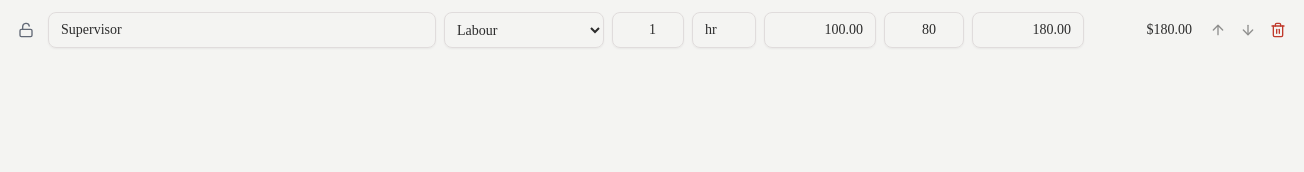
Test case: typing a markup still sets the sell from the cost
Replace the text in the number field named "Markup %" with "25" at (924, 30), box [884, 12, 964, 48]
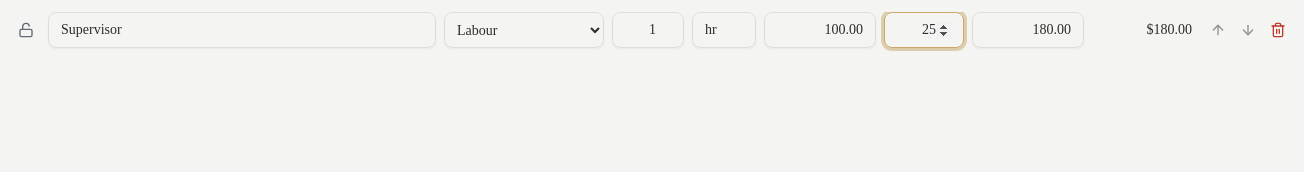
Click the field named "description" at (242, 30), box [48, 12, 436, 48]
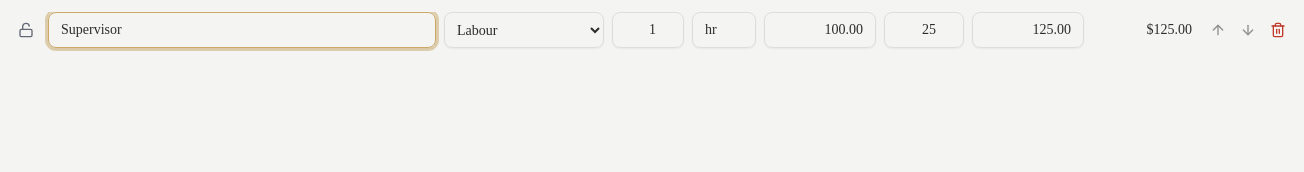
Check: the field named "Unit sell" holds "125.00", box [972, 12, 1084, 48]
